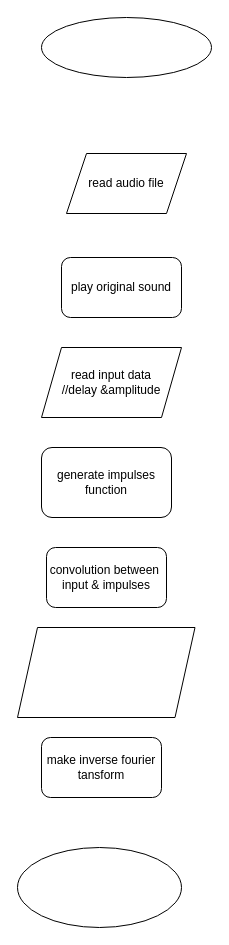
This 229x945 diagram has some shape labels left out. Here are the shapes that lost their labels. From the top down, the centre of each, then its label:
(x=126, y=47): start
(x=105, y=672): plot signals graph input &impulses &output
(x=99, y=887): End
